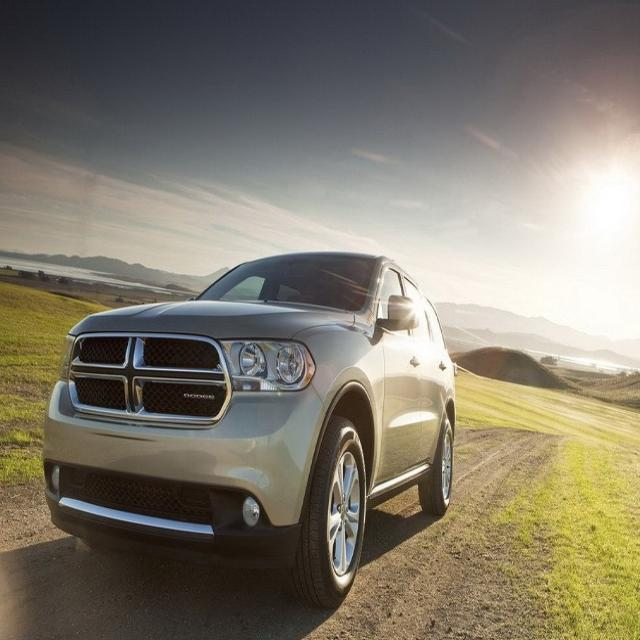front_bumper: (41, 380, 328, 568)
front_glass: (194, 249, 380, 311)
front_left_side_door: (375, 260, 423, 490)
front_left_side_light: (216, 337, 315, 396)
front_left_side_mirror: (384, 292, 422, 334)
front_right_side_light: (57, 332, 76, 384)
wheel: (287, 418, 368, 607), (420, 414, 454, 516)
